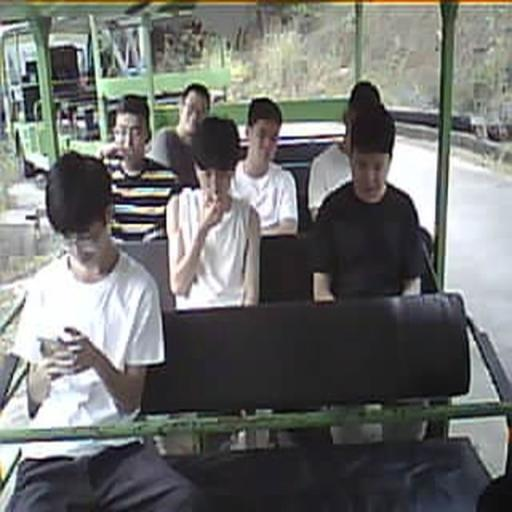persona: (2, 150, 201, 510), (308, 102, 430, 303), (166, 116, 262, 310), (95, 94, 180, 242), (308, 80, 382, 220), (229, 96, 299, 238), (150, 82, 212, 187)
